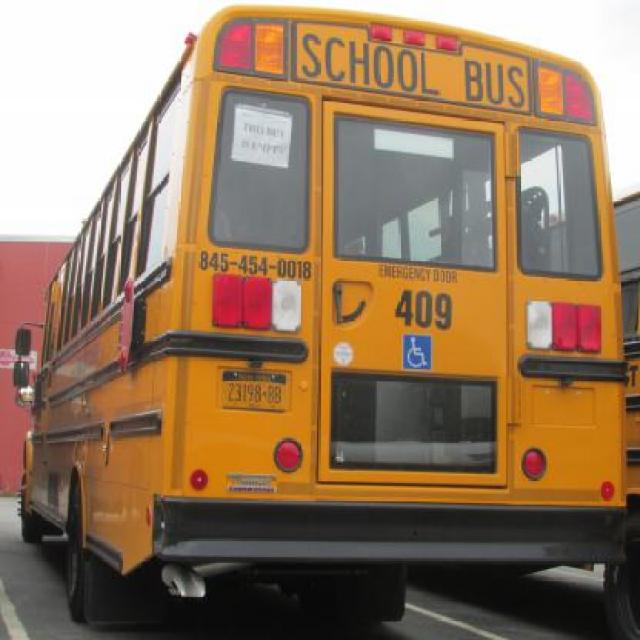motorcycle: (10, 6, 628, 629), (488, 187, 639, 640)
